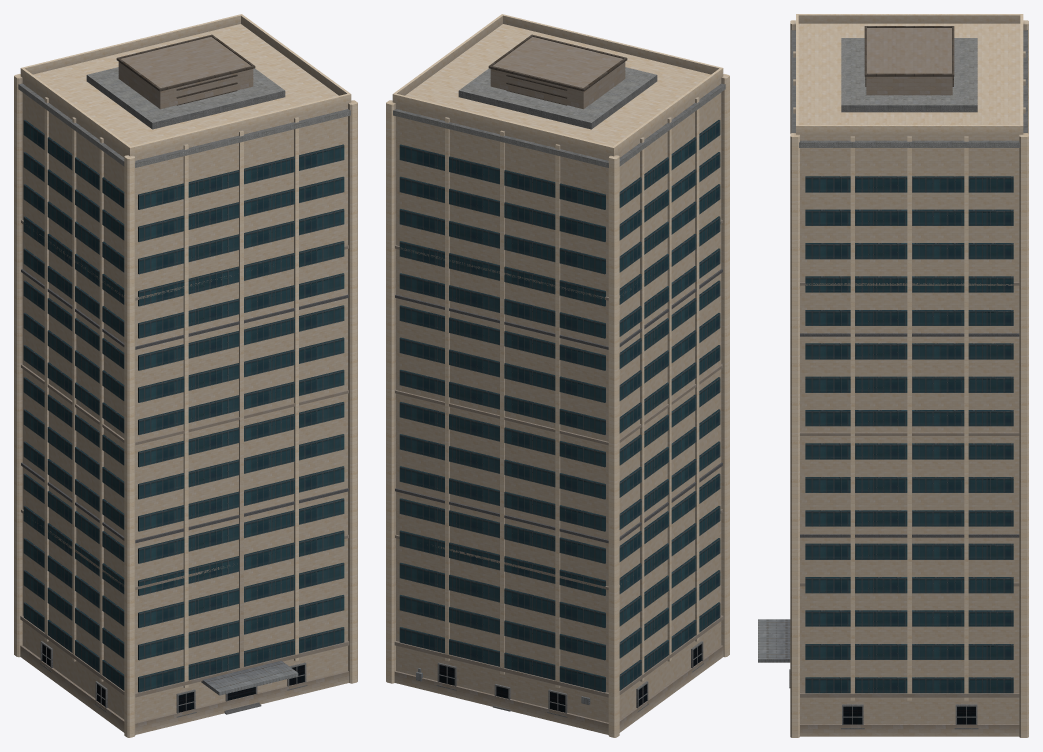
The model's file is congress-court-tower_lod0.gltf.
The picture shows the model from 3 angles, left to right: view 1: azimuth 30°, elevation 25°; view 2: azimuth 150°, elevation 25°; view 3: azimuth 270°, elevation 25°; orthographic projection. The views are drawn at different scales.
Visible parts, largest first — view 1: congress-court-tower_main, congress-court-tower_fen_07-glass-curtain-blue_0, congress-court-tower__v4_stone_detail, congress-court-tower__crown_step_1, congress-court-tower__cornice, congress-court-tower__parapet_front, congress-court-tower__parapet_back, congress-court-tower__canopy, congress-court-tower__v4_metal_detail, congress-court-tower__string_course_1, congress-court-tower__string_course_2, congress-court-tower__parapet_left (+3 smaller); view 2: congress-court-tower_main, congress-court-tower_fen_07-glass-curtain-blue_0, congress-court-tower__v4_stone_detail, congress-court-tower__crown_step_1, congress-court-tower__cornice, congress-court-tower__parapet_back, congress-court-tower__parapet_front, congress-court-tower__v4_metal_detail, congress-court-tower__string_course_1, congress-court-tower__string_course_2, congress-court-tower__parapet_left, congress-court-tower__parapet_right (+2 smaller); view 3: congress-court-tower_main, congress-court-tower_fen_07-glass-curtain-blue_0, congress-court-tower__v4_stone_detail, congress-court-tower__crown_step_1, congress-court-tower__cornice, congress-court-tower__parapet_left, congress-court-tower__parapet_right, congress-court-tower__canopy, congress-court-tower__v4_metal_detail, congress-court-tower__string_course_1, congress-court-tower__string_course_2, congress-court-tower_fen_07-glass-curtain-blue_2_t (+2 smaller).
Part boxes in pixels (x1,y1,x2,y2): congress-court-tower_main: (22, 24, 347, 722); congress-court-tower_fen_07-glass-curtain-blue_0: (23, 120, 344, 692); congress-court-tower__v4_stone_detail: (14, 36, 357, 737); congress-court-tower__crown_step_1: (86, 67, 285, 129); congress-court-tower__cornice: (18, 83, 350, 167); congress-court-tower__parapet_front: (128, 93, 351, 156); congress-court-tower__parapet_back: (20, 14, 242, 76); congress-court-tower__canopy: (201, 660, 298, 695); congress-court-tower__v4_metal_detail: (116, 34, 255, 105); congress-court-tower__string_course_1: (21, 462, 348, 543); congress-court-tower__string_course_2: (21, 269, 348, 349); congress-court-tower__parapet_left: (22, 68, 130, 154); congress-court-tower_main: (396, 24, 721, 722); congress-court-tower_fen_07-glass-curtain-blue_0: (399, 120, 720, 692); congress-court-tower__v4_stone_detail: (386, 36, 729, 737); congress-court-tower__crown_step_1: (458, 67, 657, 129); congress-court-tower__cornice: (393, 83, 725, 167); congress-court-tower__parapet_back: (392, 93, 615, 156); congress-court-tower__parapet_front: (501, 14, 723, 76); congress-court-tower__v4_metal_detail: (488, 34, 627, 105); congress-court-tower__string_course_1: (395, 462, 722, 543); congress-court-tower__string_course_2: (395, 269, 722, 349); congress-court-tower__parapet_left: (613, 68, 721, 154); congress-court-tower__parapet_right: (394, 15, 502, 95); congress-court-tower_main: (798, 23, 1020, 723); congress-court-tower_fen_07-glass-curtain-blue_0: (805, 176, 1013, 693); congress-court-tower__v4_stone_detail: (790, 20, 1028, 737); congress-court-tower__crown_step_1: (841, 38, 977, 112); congress-court-tower__cornice: (791, 30, 1027, 147); congress-court-tower__parapet_left: (798, 14, 1020, 23); congress-court-tower__parapet_right: (798, 125, 1020, 134); congress-court-tower__canopy: (758, 619, 790, 662); congress-court-tower__v4_metal_detail: (864, 26, 954, 86); congress-court-tower__string_course_1: (800, 534, 1019, 537); congress-court-tower__string_course_2: (800, 333, 1019, 336); congress-court-tower_fen_07-glass-curtain-blue_2_t: (843, 706, 975, 724).
Size of the model in its own units: 29.19 by 73.3 by 28.59.
